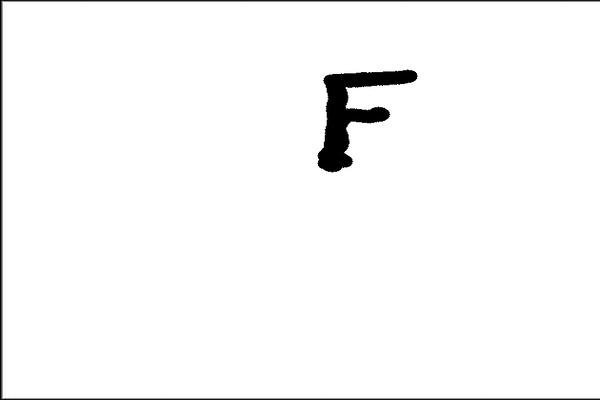F: (310, 65, 422, 175)
